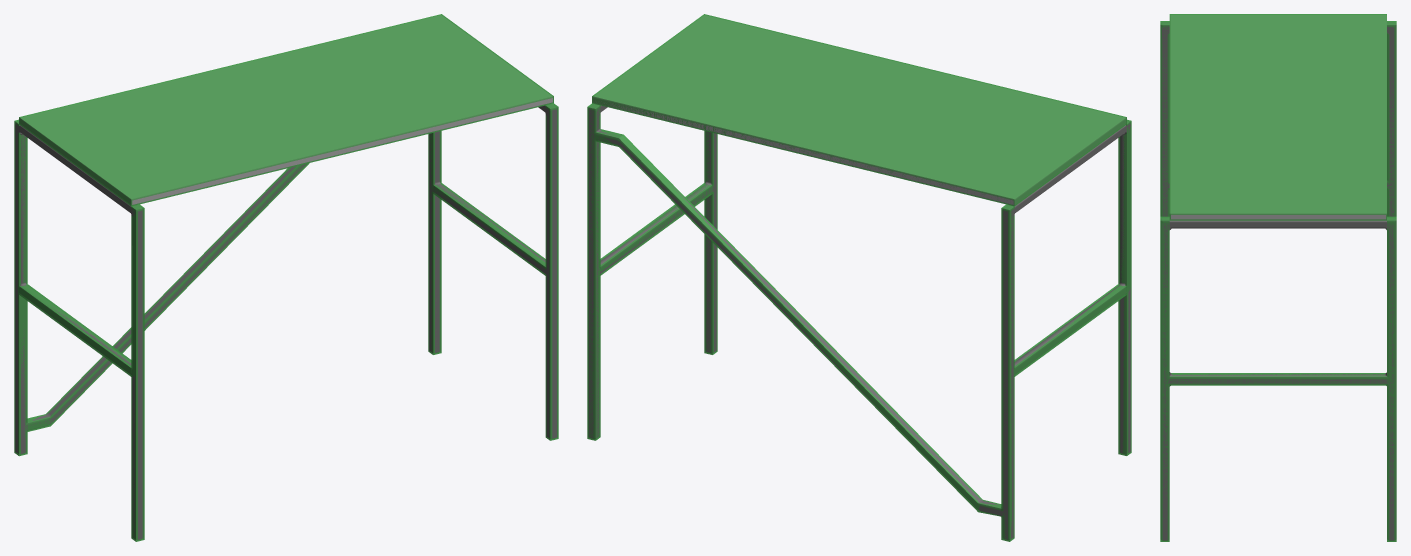
The model's file is Shelves_02_Mesh.fbx.
3 renders of one model, left to right at view 1: azimuth 30°, elevation 25°; view 2: azimuth 150°, elevation 25°; view 3: azimuth 270°, elevation 25°, orthographic. The views are drawn at different scales.
Visible parts, largest first — view 1: OfficeShelves_01C_LOD0, OfficeShelves_01C_col; view 2: OfficeShelves_01C_col, OfficeShelves_01C_LOD0; view 3: OfficeShelves_01C_LOD0, OfficeShelves_01C_col.
Part boxes in pixels (<box>): OfficeShelves_01C_LOD0: <box>15,15,556,539</box>; OfficeShelves_01C_col: <box>14,14,558,541</box>; OfficeShelves_01C_col: <box>587,14,1131,541</box>; OfficeShelves_01C_LOD0: <box>589,15,1130,539</box>; OfficeShelves_01C_LOD0: <box>1161,15,1395,540</box>; OfficeShelves_01C_col: <box>1160,14,1396,541</box>.
Size of what is drawn, in the model's own units: 1 by 0.7669 by 0.5.
